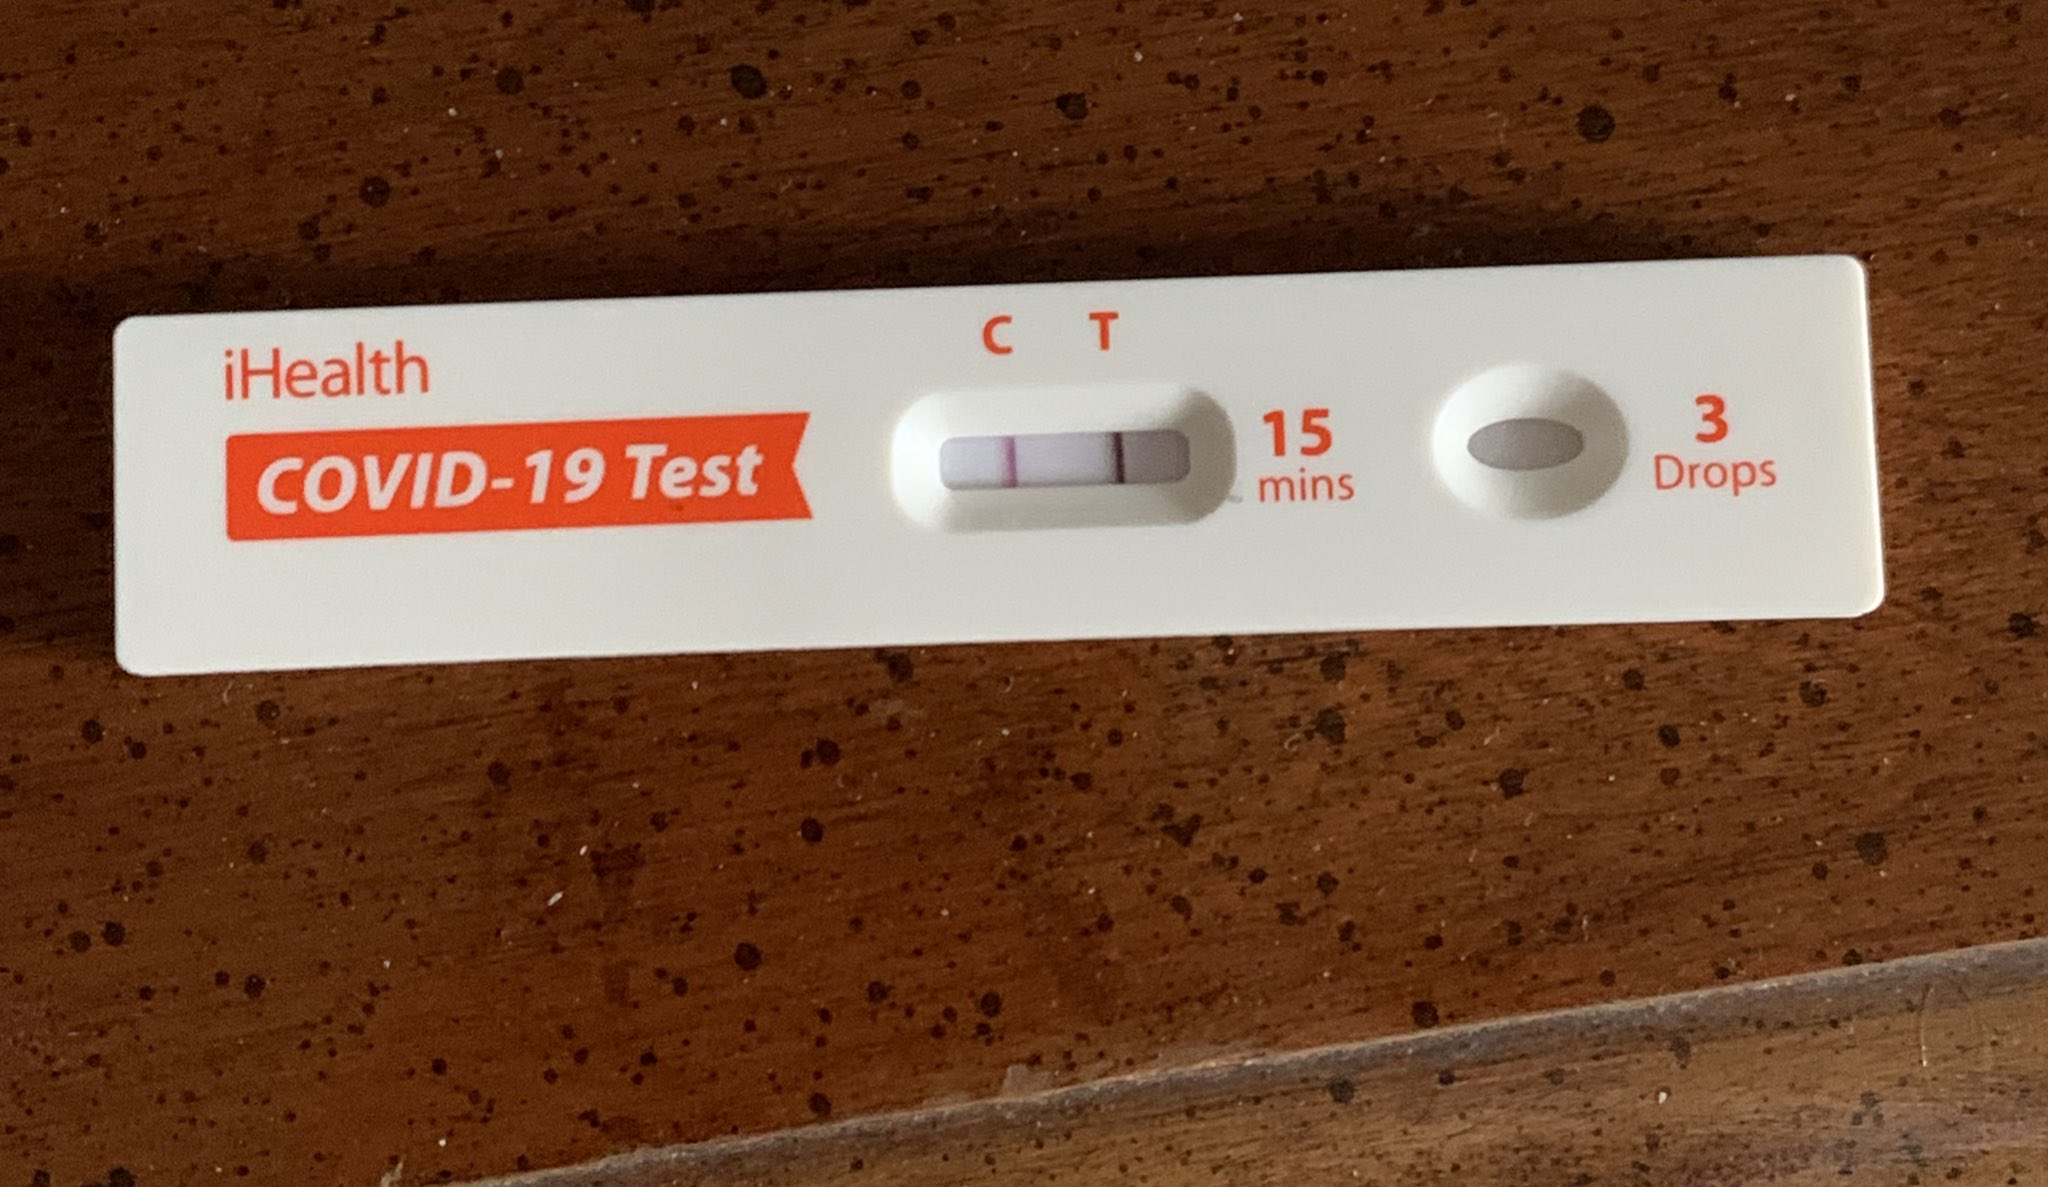Invalid: (1445, 408, 1607, 486)
positive: (924, 396, 1218, 521)
